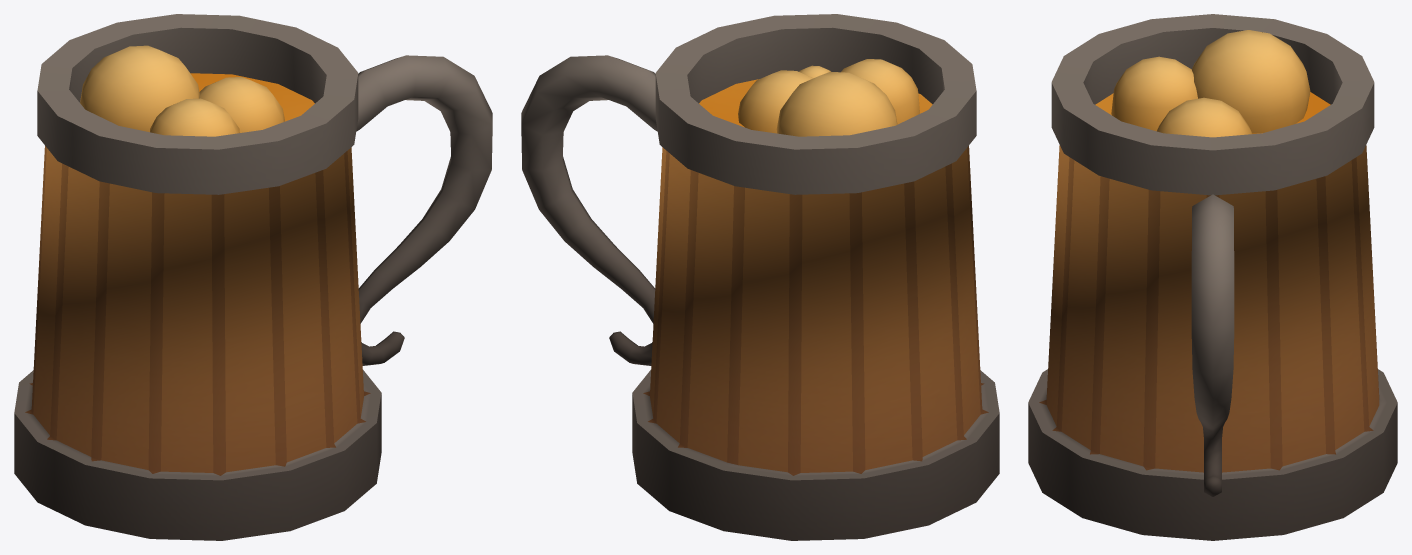
The model's file is obj_Beer.fbx.
The picture shows the model from 3 angles, left to right: view 1: azimuth 30°, elevation 25°; view 2: azimuth 150°, elevation 25°; view 3: azimuth 270°, elevation 25°; orthographic projection.
Parts seen in each view (by area): view 1: obj_Beer; view 2: obj_Beer; view 3: obj_Beer.
Boxes of the visible parts, bbox=[...] form: obj_Beer: bbox=[14, 14, 492, 540]; obj_Beer: bbox=[521, 14, 999, 540]; obj_Beer: bbox=[1028, 14, 1397, 540].
Bounding box in the file's own units: 18.27 × 15.69 × 12.88.
